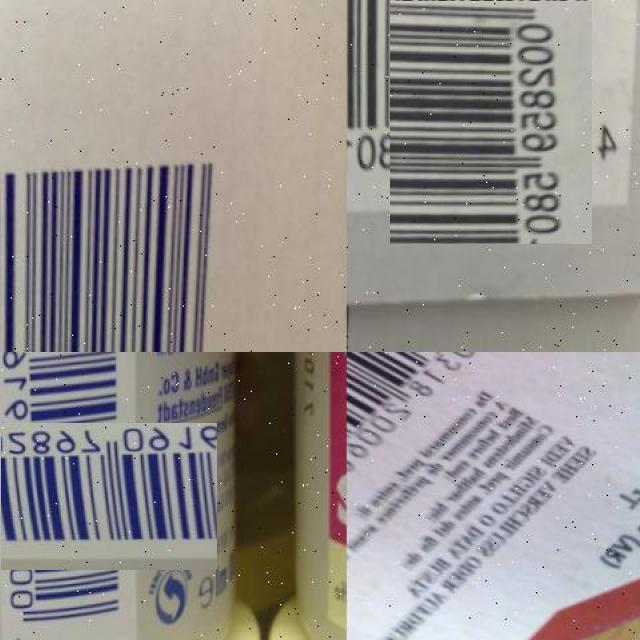Barcode: (0, 128, 256, 352), (369, 0, 613, 224), (0, 388, 183, 605), (347, 352, 544, 513)
